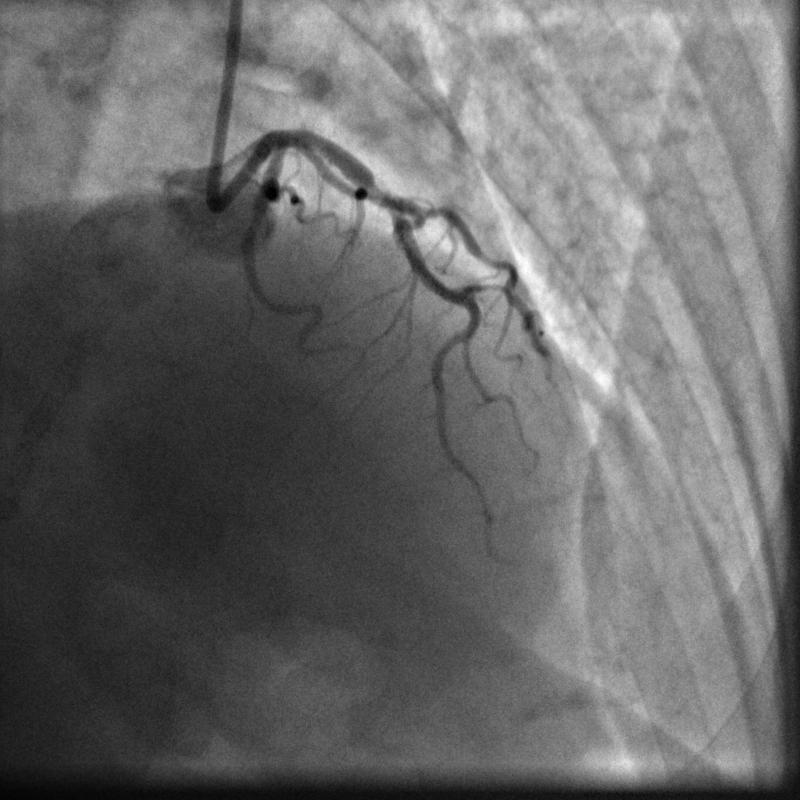Stenosis: (367, 172, 390, 214)
